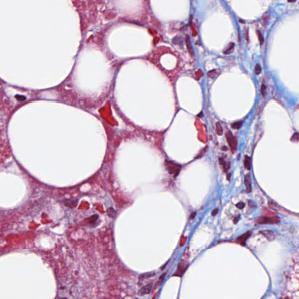inflammation: (208, 119, 256, 185)
